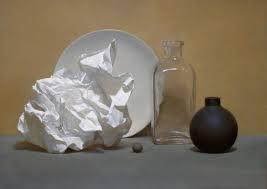glass: (154, 40, 195, 143), (190, 97, 237, 152)
paper: (16, 31, 134, 152)
